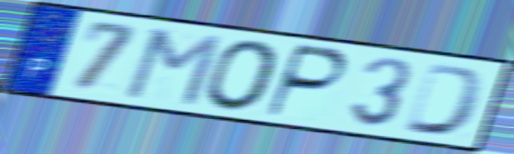3: (347, 56, 413, 130)
7: (71, 18, 144, 93)
D: (400, 60, 489, 139)
M: (120, 26, 226, 109)
O: (204, 38, 282, 113)
P: (262, 42, 351, 120)
